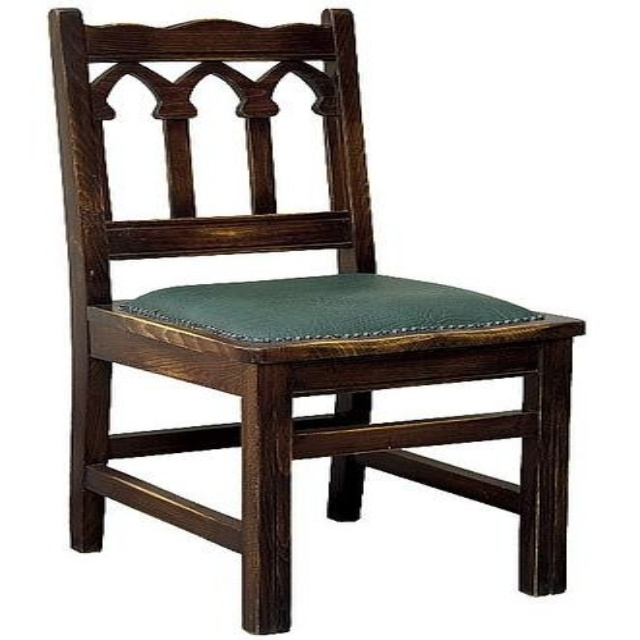obstacle: (50, 9, 582, 632)
